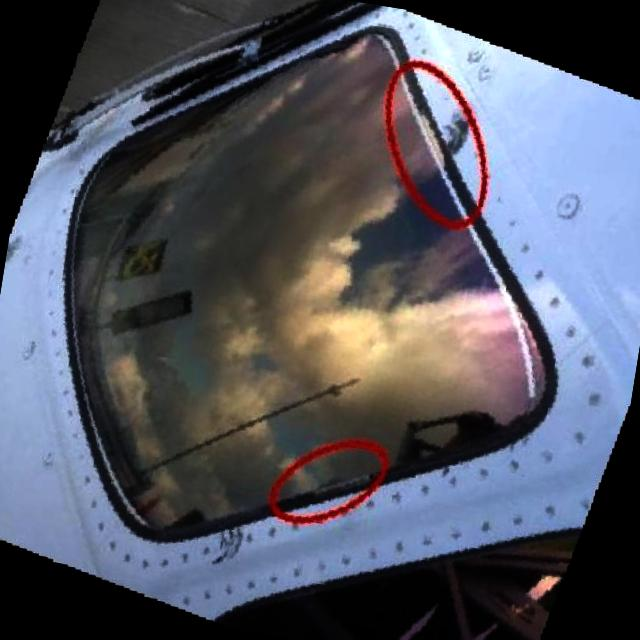crack: (216, 521, 244, 566)
